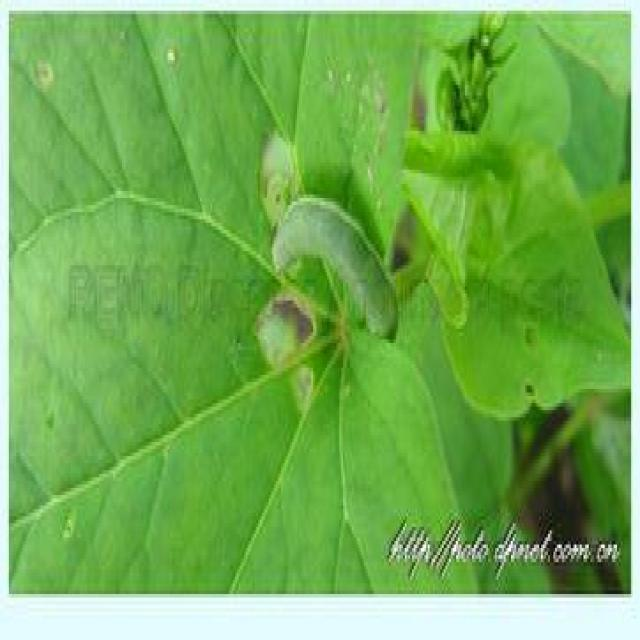BeetArmyWorm-Larva-: (266, 188, 403, 352)
